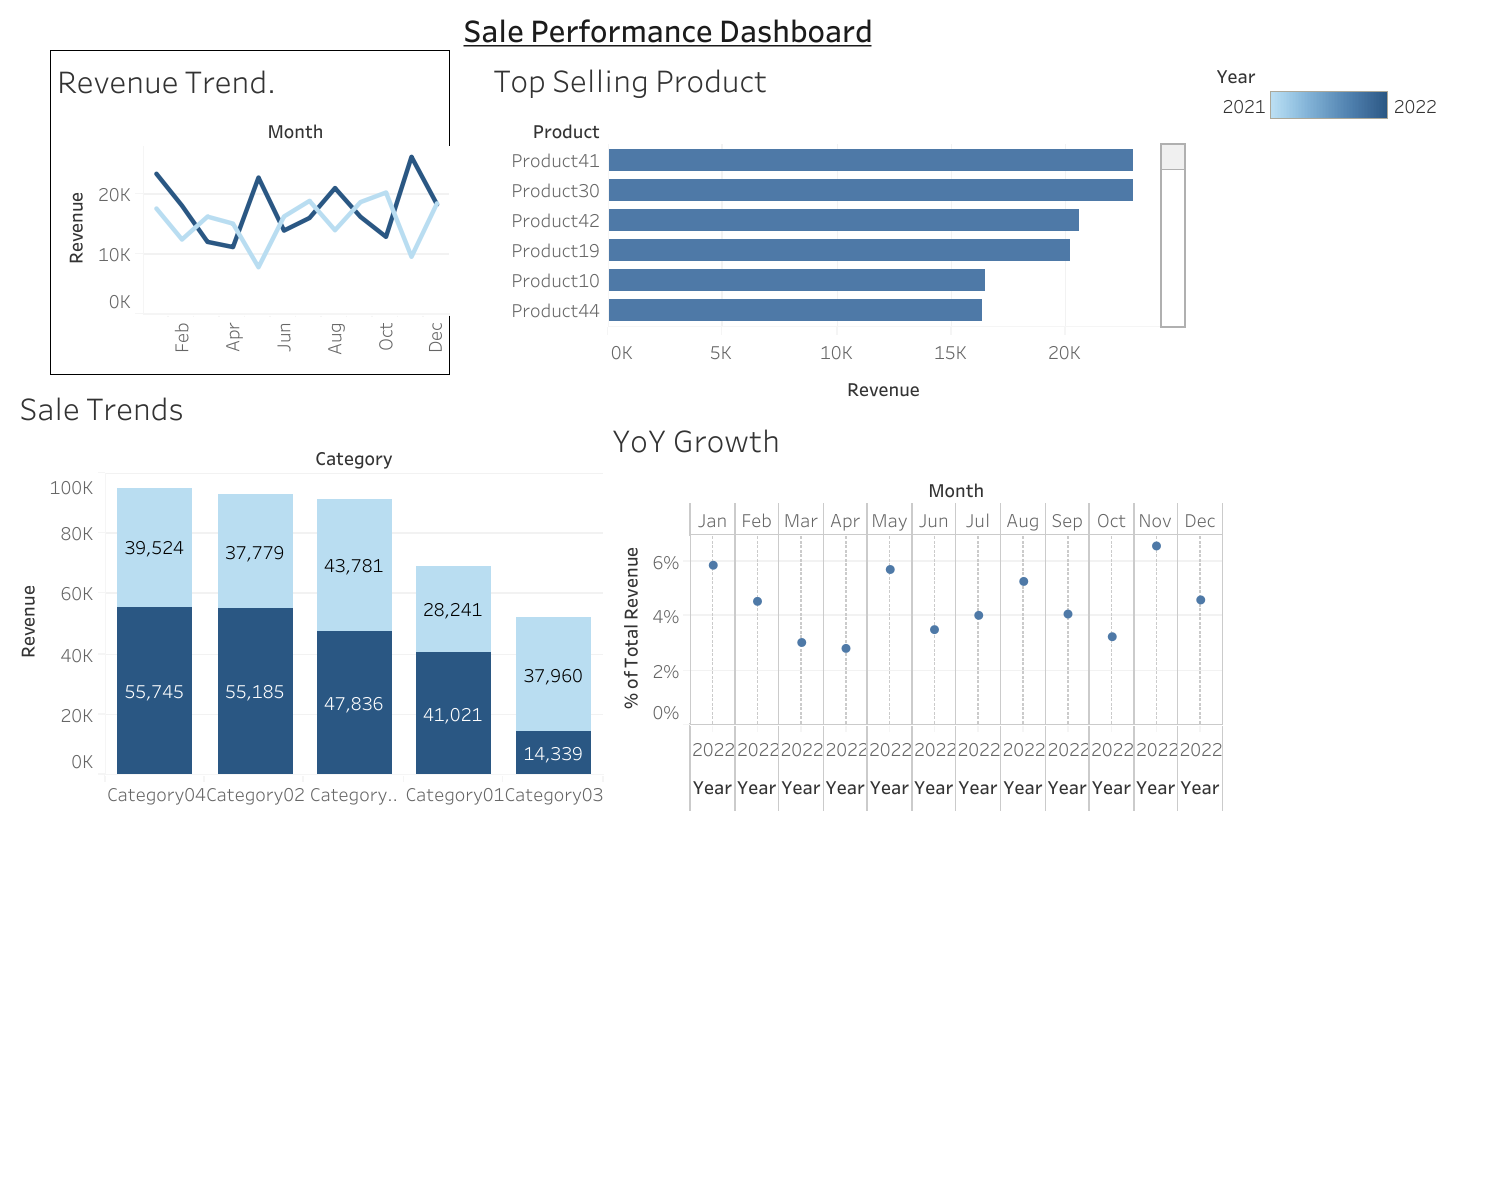

The page's visual inventory and layout, read from the dashboard file:
{"tool":"tableau","page":{"name":"Dashboard","canvas":[1000,800],"ordinal":0},"visuals":[{"type":"text","box":[306,5,279,30]},{"type":"worksheet","title":"Revenue Trend.","mark":"Line","rows":["Calculation_1125959016063025"],"cols":["Month"],"box":[33,33,267,217]},{"type":"worksheet","title":"Top Selling Product","mark":"Automatic","rows":["PRODUCT"],"cols":["Calculation_1125959016063025"],"box":[325,33,466,242]},{"type":"legend","title":"Sale Trends","param":"[federated.0vxnlux13fw48s1bptagc13npnxn].[none:Year:qk]","box":[807,33,160,68]},{"type":"worksheet","title":"Sale Trends","mark":"Automatic","rows":["Calculation_1125959016063025"],"cols":["CATEGORY"],"box":[9,252,393,286]},{"type":"worksheet","title":"YoY Growth","mark":"Line","rows":["Calculation_1125959016063025"],"cols":["Month","Year"],"box":[404,273,412,268]}]}

Visuals, with their boxes in screenshot pixels (x1, y1, x2, y2), scaled from the page's 1000x800 canvas onto the 1499x1199 screenshot:
text: [459,7,877,52]
"Revenue Trend." worksheet (Line marks): [49,49,450,375]
"Top Selling Product" worksheet: [487,49,1186,412]
"Sale Trends" legend: [1210,49,1450,151]
"Sale Trends" worksheet: [13,378,603,806]
"YoY Growth" worksheet (Line marks): [606,409,1223,811]
